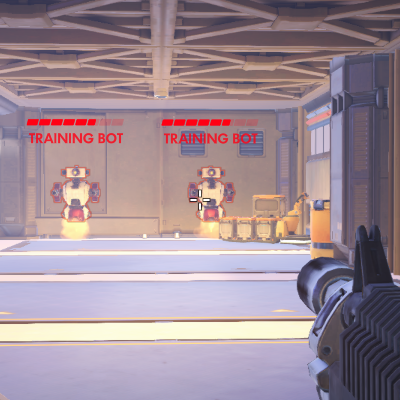hpbar: (160, 118, 260, 127), (26, 118, 125, 127)
